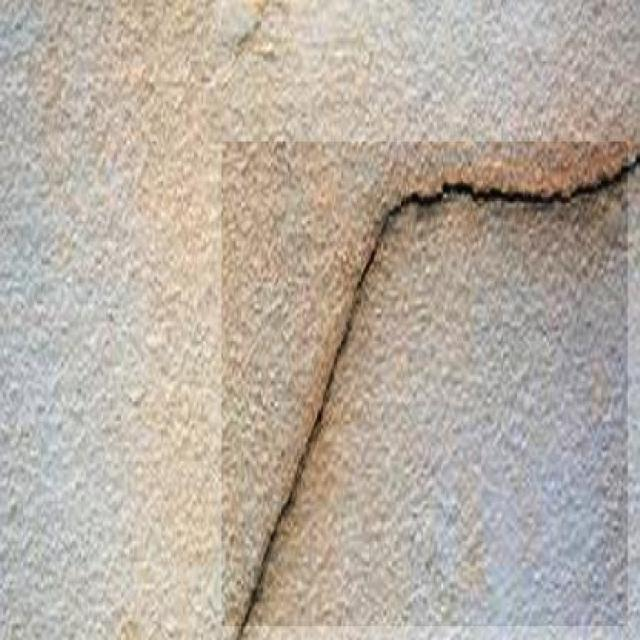Crack: (228, 139, 640, 640)
